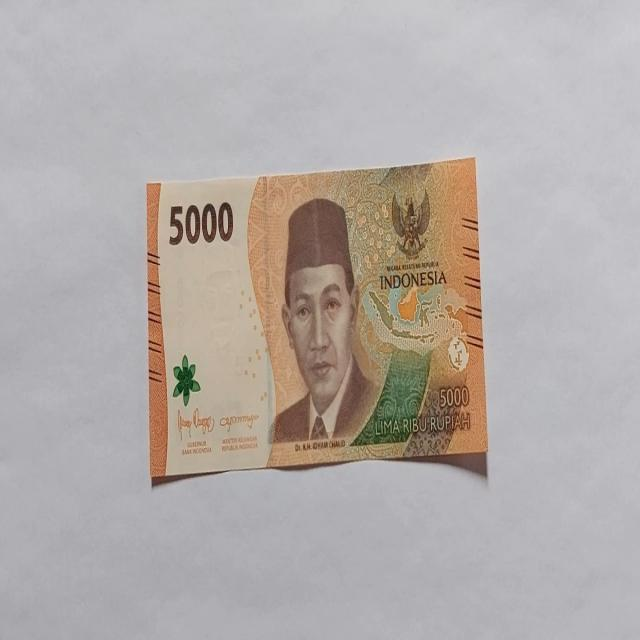lima ribu rupiah: (146, 157, 488, 483), (268, 197, 380, 447)
